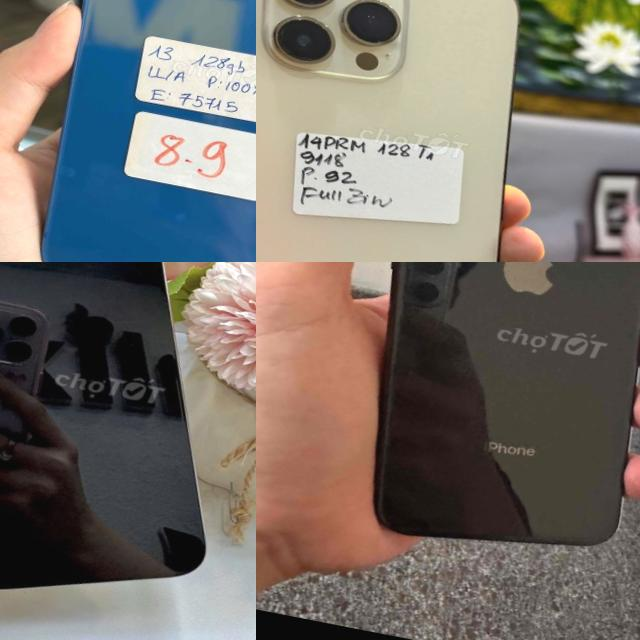gen_12_13: (16, 0, 256, 262)
gen_14: (256, 0, 567, 262)
gen_16: (0, 262, 204, 589)
gen_x_xs: (322, 262, 640, 595)
